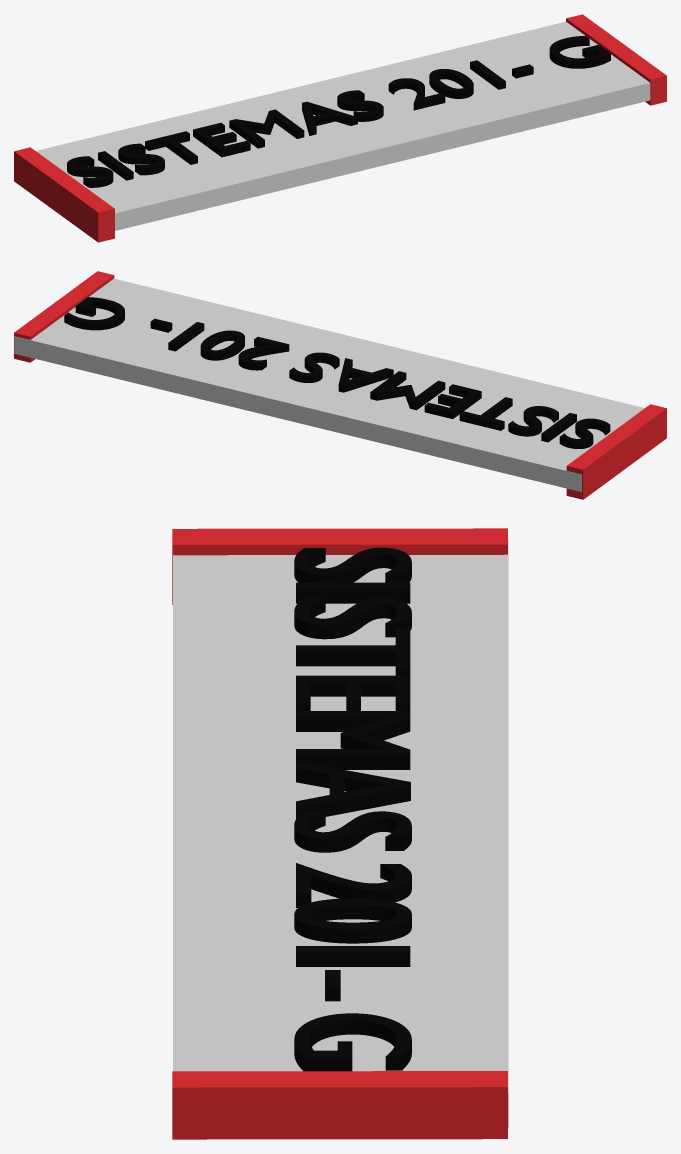
Rendered from Sistemas201G.fbx.
The picture shows the model from 3 angles, top to bottom: view 1: azimuth 30°, elevation 25°; view 2: azimuth 150°, elevation 25°; view 3: azimuth 270°, elevation 25°; orthographic projection. The views are drawn at different scales.
Parts seen in each view (by area): view 1: Cube, Texto.001, Cubo, Cubo.001; view 2: Cube, Texto.001, Cubo, Cubo.001; view 3: Cube, Texto.001, Cubo.001, Cubo.
Part boxes in pixels (x1=…): Cube: x1=36, y1=21, x2=650, y2=230; Texto.001: x1=67, y1=36, x2=610, y2=187; Cubo: x1=14, y1=147, x2=114, y2=242; Cubo.001: x1=566, y1=14, x2=666, y2=105; Cube: x1=14, y1=278, x2=644, y2=491; Texto.001: x1=64, y1=297, x2=610, y2=448; Cubo: x1=566, y1=404, x2=666, y2=499; Cubo.001: x1=14, y1=271, x2=114, y2=362; Cube: x1=173, y1=540, x2=508, y2=1128; Texto.001: x1=294, y1=547, x2=411, y2=1071; Cubo.001: x1=172, y1=1071, x2=507, y2=1139; Cubo: x1=172, y1=528, x2=507, y2=604.
Size of the model in its own units: 783 by 41.99 by 200.
